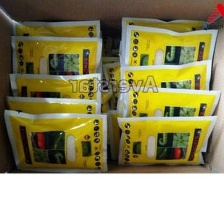insecticide: (2, 108, 111, 176), (118, 84, 223, 153), (5, 70, 104, 140), (115, 111, 222, 171), (117, 57, 215, 118), (122, 23, 221, 82), (9, 35, 106, 95), (2, 96, 103, 147), (118, 14, 214, 63), (7, 16, 104, 64)
